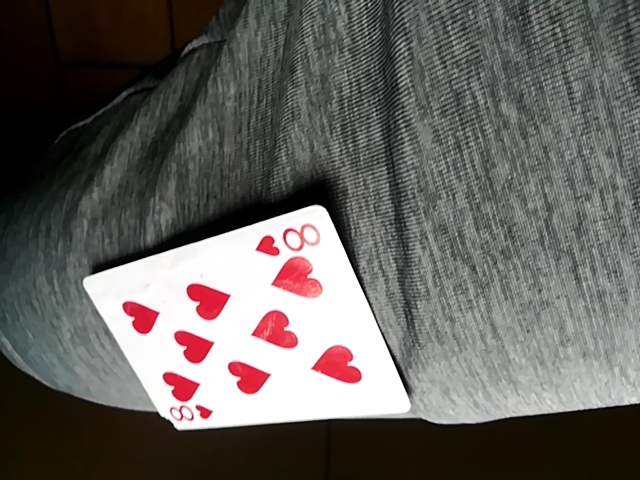hx 8: (85, 204, 416, 432)
